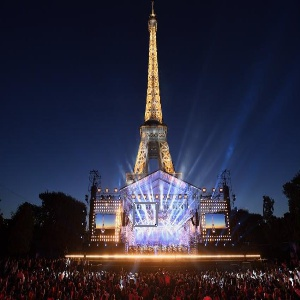square: (133, 201, 158, 226)
